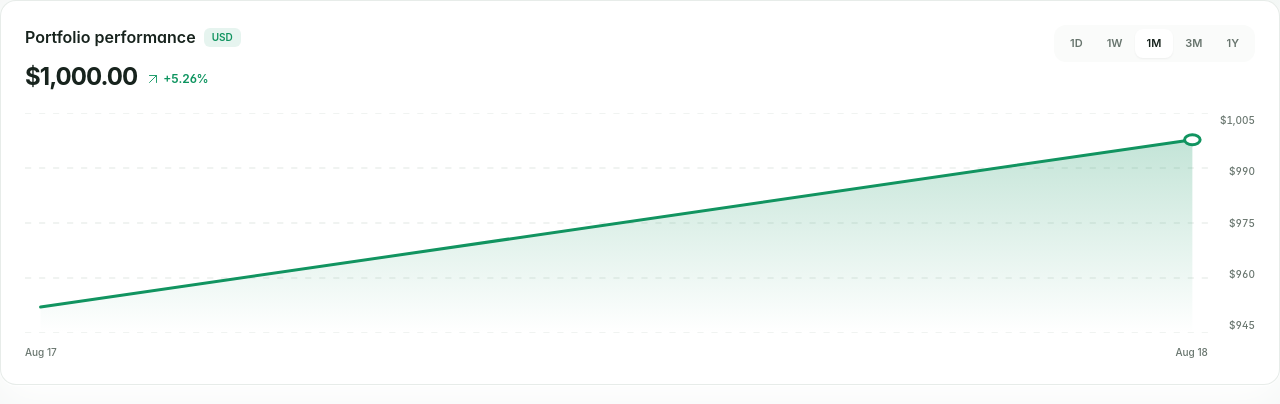
Test: PortfolioChart › matches history by ticker and changes the backend period query
The image size is (1280, 404).
Expected: the picture named "1M portfolio line chart" is shown, [25,113,1255,360]
Expected: the text "$1,000.00" is shown, [25,61,137,93]
Click the button "1W": (1115, 43) [1095,29,1135,58]
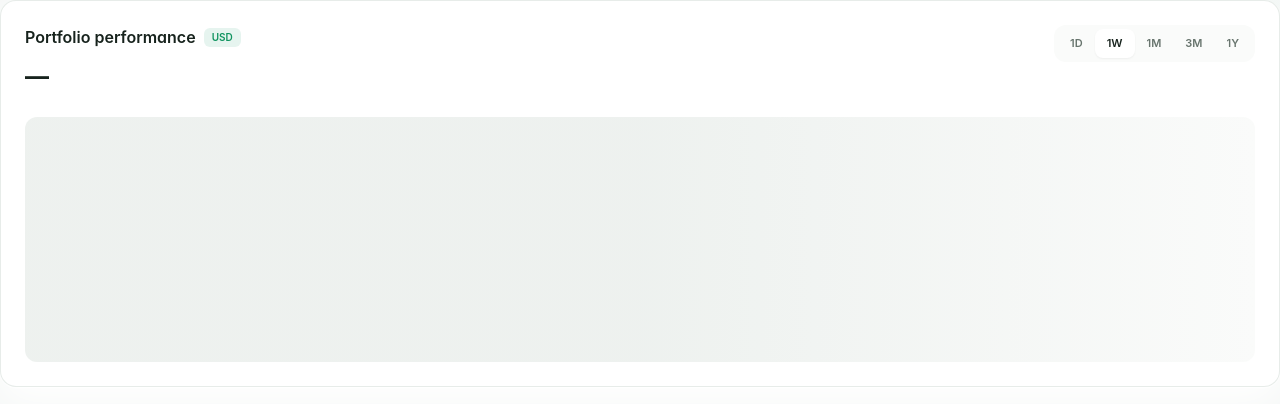
Click the button "3M": (1194, 43) [1173,29,1214,58]
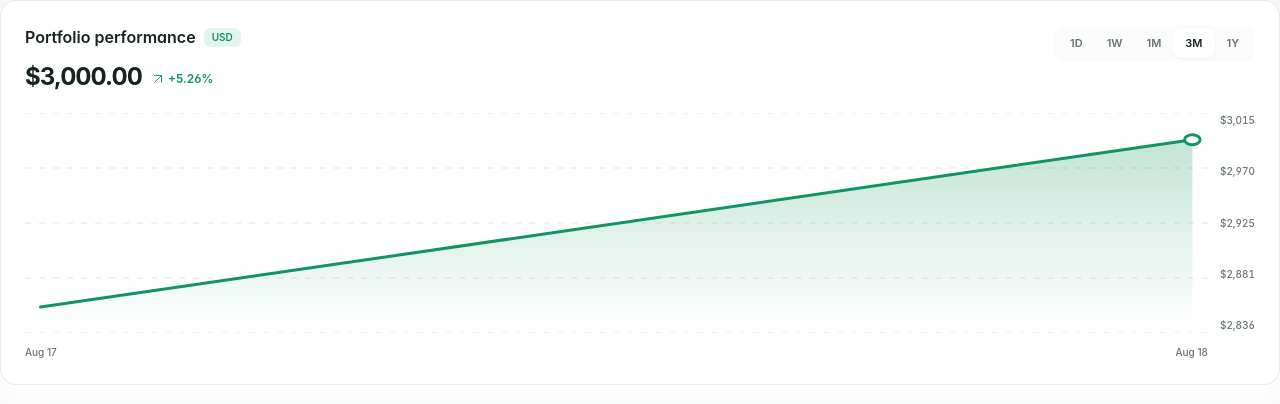
Result: the text "Aug 17" is shown at [25,345,57,360]
Result: the text "$3,015" is shown at [1220,113,1255,128]
